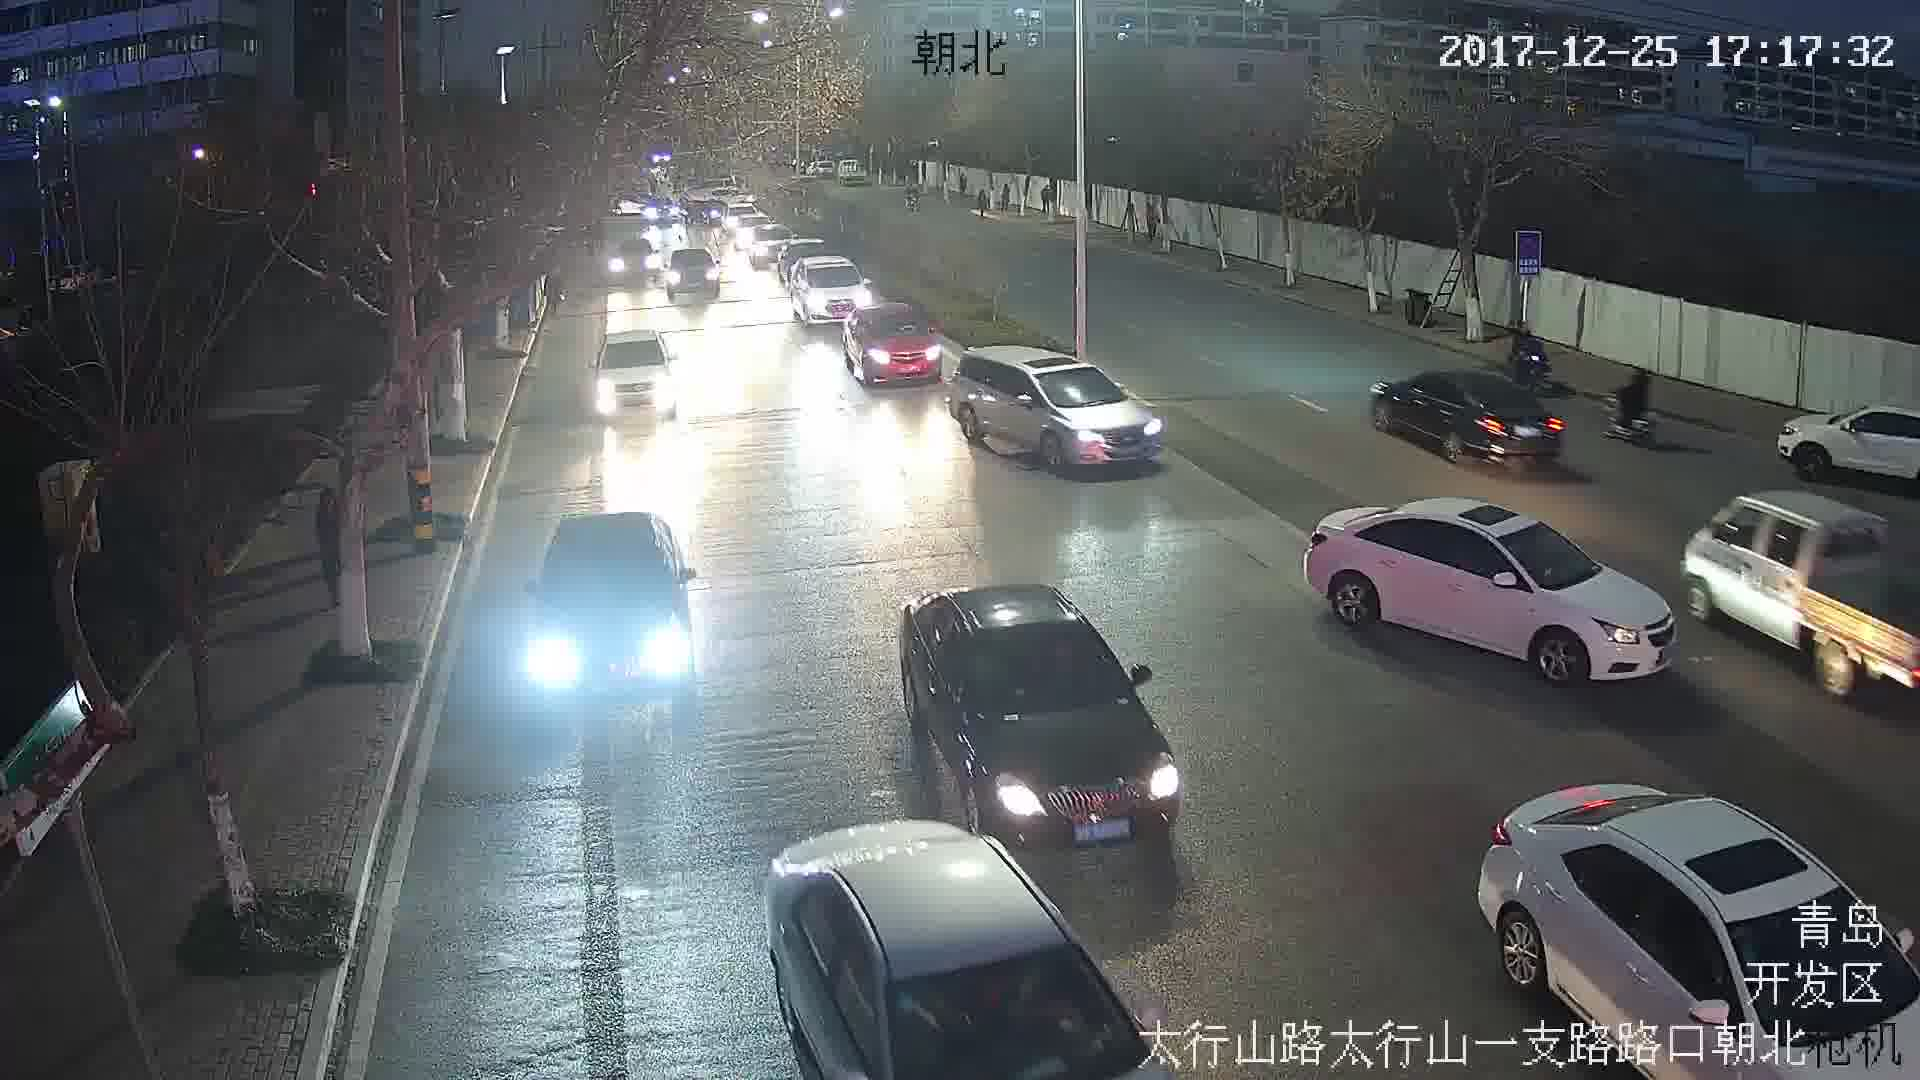car: (889, 584, 1181, 845), (1305, 500, 1677, 681), (1688, 488, 1917, 699), (523, 520, 695, 707), (942, 345, 1166, 470), (1374, 364, 1570, 466), (591, 325, 680, 421), (845, 306, 946, 382), (782, 256, 874, 323), (662, 245, 730, 298), (749, 224, 798, 266), (834, 159, 871, 185)
